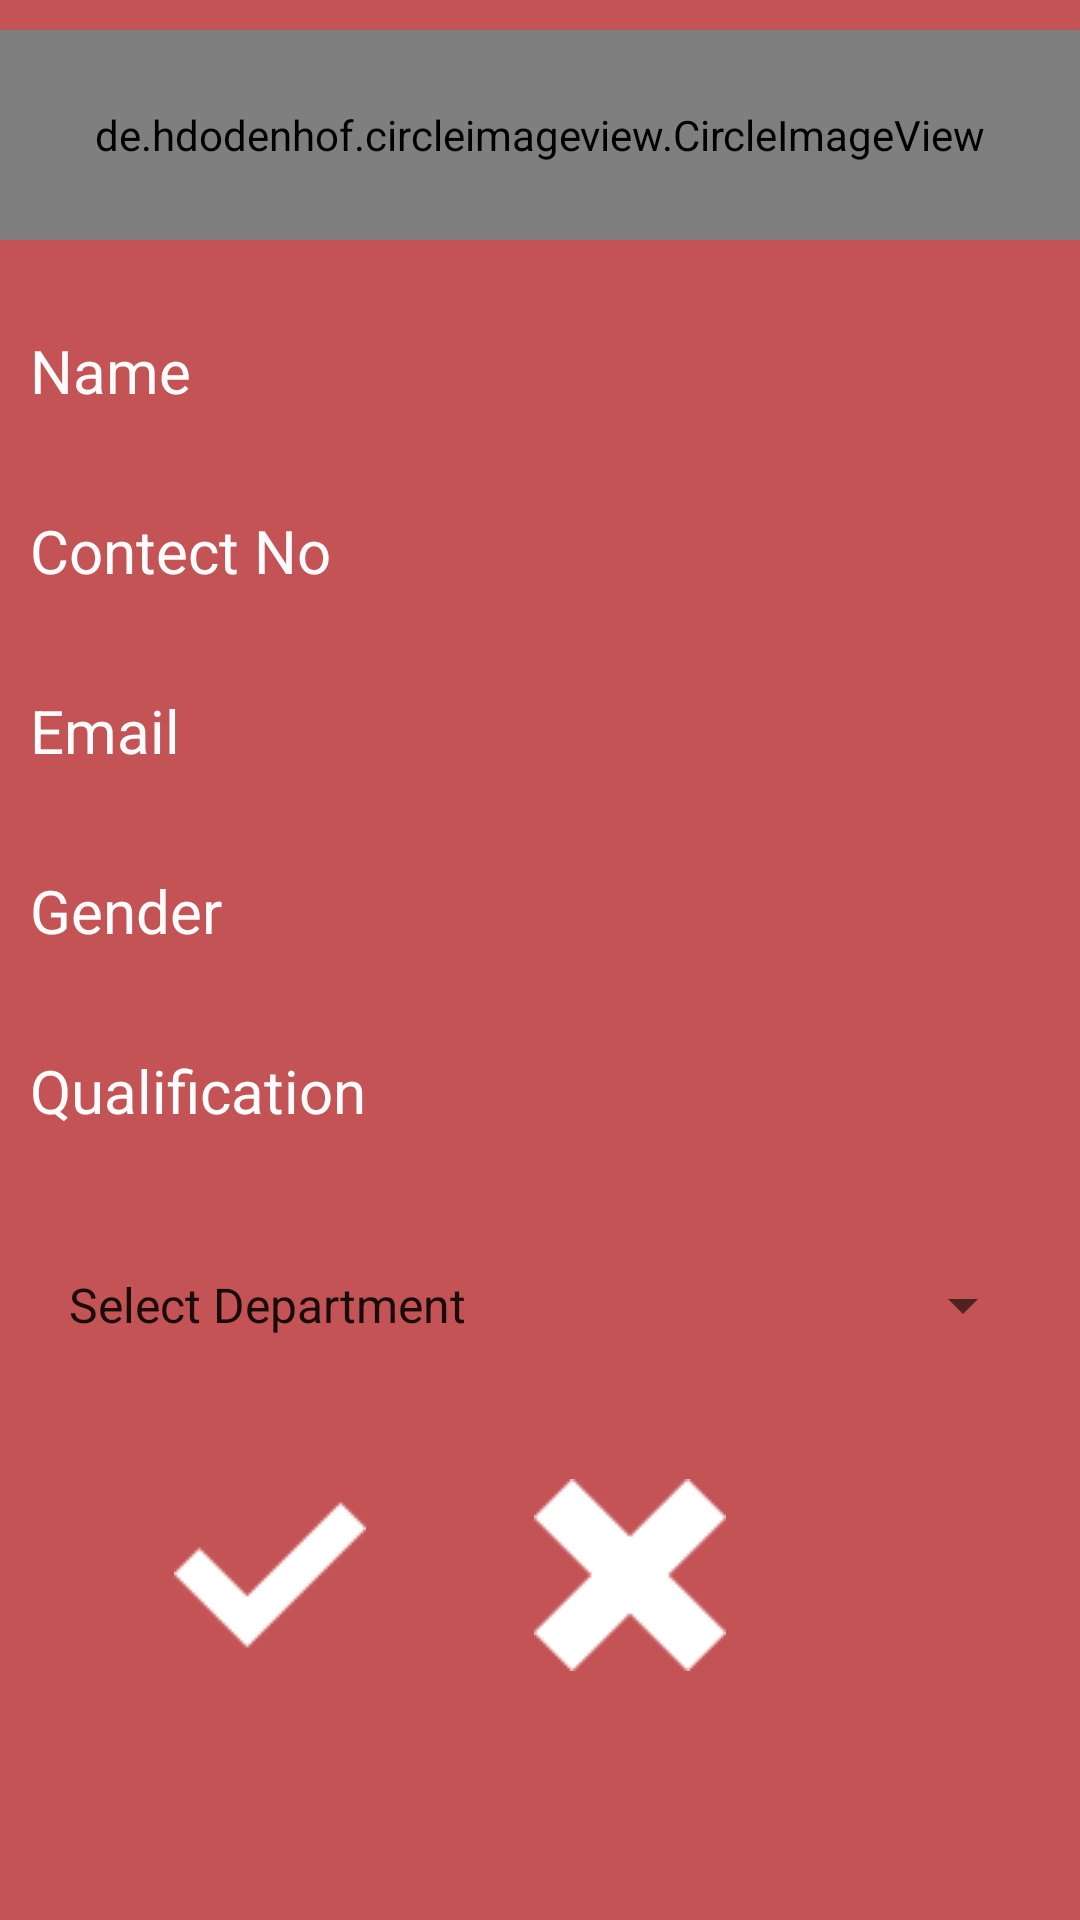

Where to tap for icons on this 1080 × 1920 app screen, as point (x, y):
right: point (270, 1575)
wrong: point (630, 1575)
